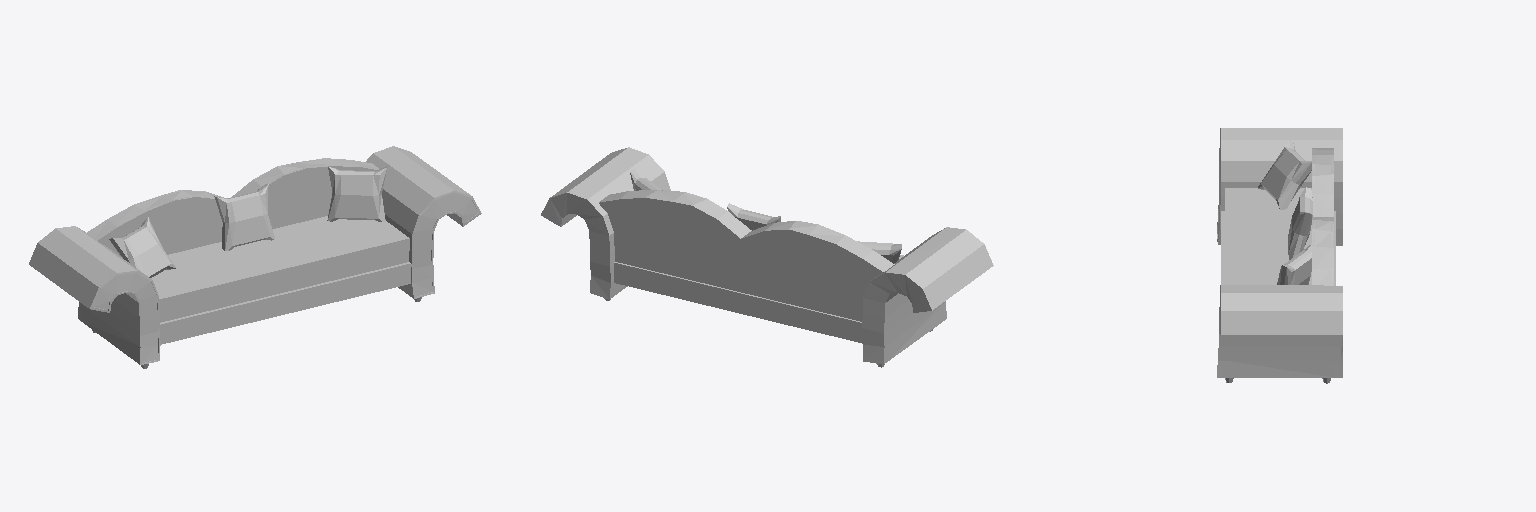
The picture shows the model from 3 angles: view 1: azimuth 30°, elevation 25°; view 2: azimuth 150°, elevation 25°; view 3: azimuth 270°, elevation 25°; orthographic projection.
Visible parts, largest first — view 1: couch; view 2: couch; view 3: couch.
Boxes of the visible parts, box(x1,y1,x2,y2) form: couch: box(29, 146, 481, 368); couch: box(541, 147, 993, 367); couch: box(1217, 128, 1342, 383).
Bounding box in the file's own units: 18.64 × 5.41 × 5.23.